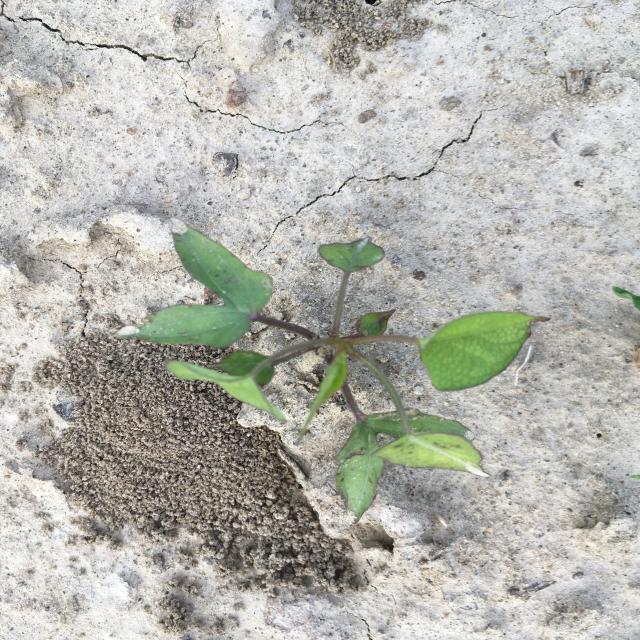MorningGlory: (115, 216, 550, 525)
